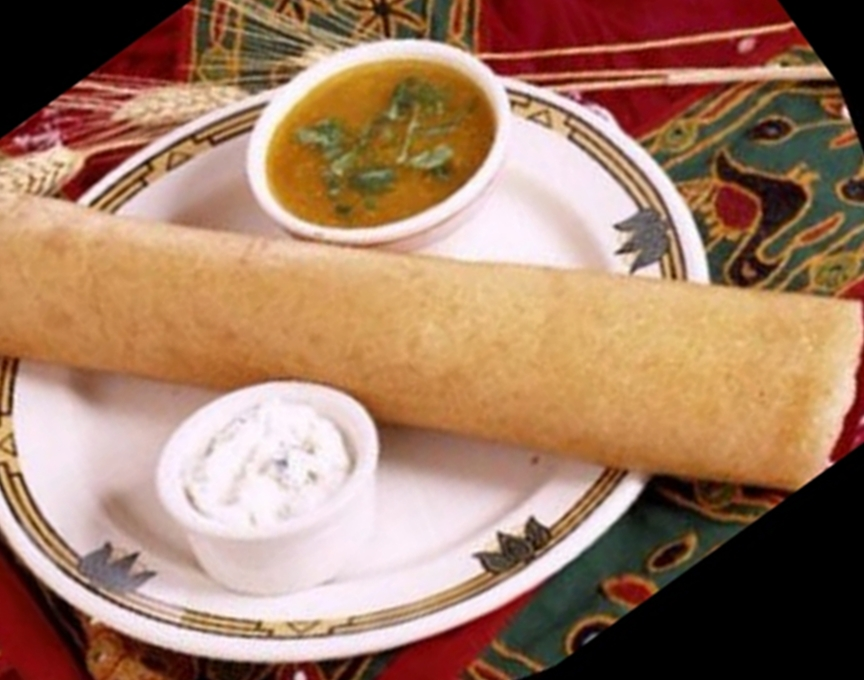dosa: (2, 194, 864, 482)
